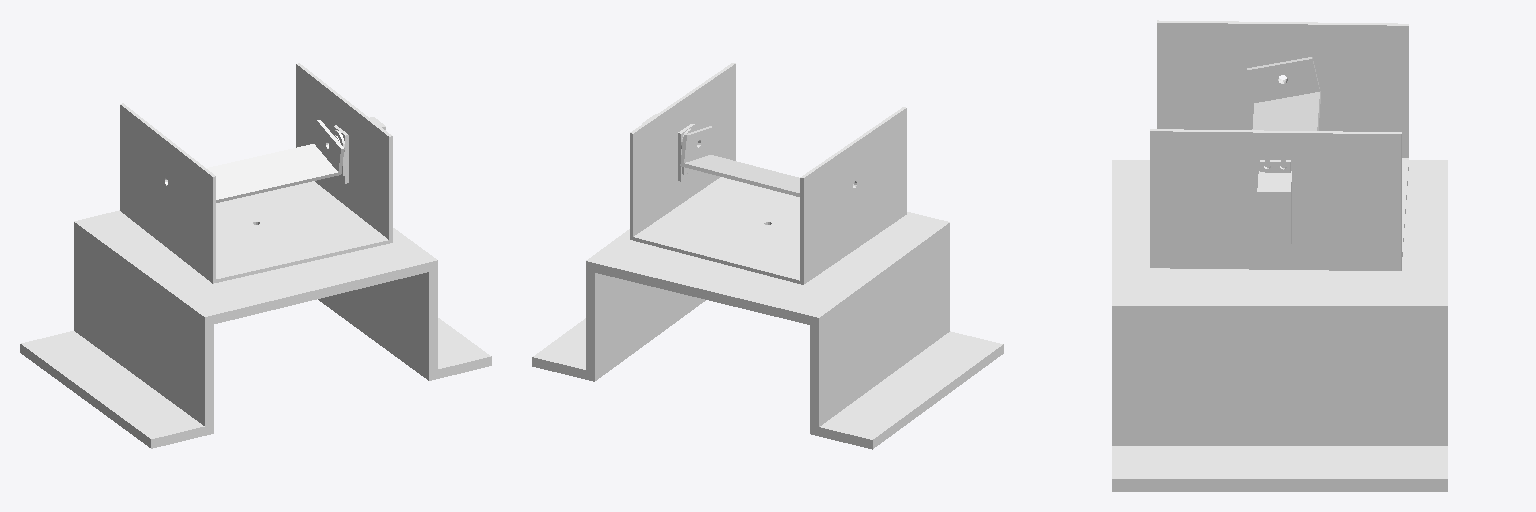
robot.urdf — pan_tilt_mech:
<?xml version="1.0" encoding="utf-8"?>
<!-- This URDF was automatically created by SolidWorks to URDF Exporter! Originally created by [author] ([email redacted]) 
     Commit Version: 1.6.0-1-g15f4949  Build Version: 1.6.7594.29634
     For more information, please see http://wiki.ros.org/sw_urdf_exporter -->
<robot
  name="pan_tilt_mech">
  <link
    name="base_link">
    <inertial>
      <origin
        xyz="0 0 0"
        rpy="0 0 0" />
      <mass
        value="0.2918" />
      <inertia
        ixx="0.0012785"
        ixy="7.8447E-20"
        ixz="-6.4806E-19"
        iyy="0.003088"
        iyz="-8.7448E-07"
        izz="0.0026035" />
    </inertial>
    <visual>
      <origin
        xyz="0 0 0"
        rpy="0 0 0" />
      <geometry>
        <mesh
          filename="package://pan_tilt_mech/meshes/base_link.STL" />
      </geometry>
      <material
        name="">
        <color
          rgba="1 1 1 1" />
      </material>
    </visual>
    <collision>
      <origin
        xyz="0 0 0"
        rpy="0 0 0" />
      <geometry>
        <mesh
          filename="package://pan_tilt_mech/meshes/base_link.STL" />
      </geometry>
    </collision>
  </link>
  <link
    name="pan_link">
    <inertial>
      <origin
        xyz="1.249E-16 0.027895 -0.0078715"
        rpy="0 0 0" />
      <mass
        value="0.3185" />
      <inertia
        ixx="0.00099595"
        ixy="-9.0846E-19"
        ixz="1.8127E-18"
        iyy="0.0011829"
        iyz="-6.8855E-06"
        izz="0.00062446" />
    </inertial>
    <visual>
      <origin
        xyz="0 0 0"
        rpy="0 0 0" />
      <geometry>
        <mesh
          filename="package://pan_tilt_mech/meshes/pan_link.STL" />
      </geometry>
      <material
        name="">
        <color
          rgba="1 1 1 0.3" />
      </material>
    </visual>
    <collision>
      <origin
        xyz="0 0 0"
        rpy="0 0 0" />
      <geometry>
        <mesh
          filename="package://pan_tilt_mech/meshes/pan_link.STL" />
      </geometry>
    </collision>
  </link>
  <joint
    name="pan_joint"
    type="revolute">
    <origin
      xyz="0.010936 -0.086324 0.12913"
      rpy="1.5708 0 -1.6005" />
    <parent
      link="base_link" />
    <child
      link="pan_link" />
    <axis
      xyz="0 1 0" />
    <limit
      lower="-3.14"
      upper="3.14"
      effort="10"
      velocity="10" />
  </joint>
  <link
    name="tilt_link">
    <inertial>
      <origin
        xyz="0.005 0.01059 -1.3878E-17"
        rpy="0 0 0" />
      <mass
        value="0.026299" />
      <inertia
        ixx="4.534E-06"
        ixy="1.1948E-20"
        ixz="-1.7033E-20"
        iyy="6.5271E-05"
        iyz="-8.4703E-22"
        izz="6.2741E-05" />
    </inertial>
    <visual>
      <origin
        xyz="0 0 0"
        rpy="0 0 0" />
      <geometry>
        <mesh
          filename="package://pan_tilt_mech/meshes/tilt_link.STL" />
      </geometry>
      <material
        name="">
        <color
          rgba="1 1 1 0.3" />
      </material>
    </visual>
    <collision>
      <origin
        xyz="0 0 0"
        rpy="0 0 0" />
      <geometry>
        <mesh
          filename="package://pan_tilt_mech/meshes/tilt_link.STL" />
      </geometry>
    </collision>
  </link>
  <joint
    name="tilt_joint"
    type="continuous">
    <origin
      xyz="0 0.067 0"
      rpy="2.9341 -1.5708 0" />
    <parent
      link="pan_link" />
    <child
      link="tilt_link" />
    <axis
      xyz="1 0 0" />
    <limit
      lower="-3.14"
      upper="3.14"
      effort="10"
      velocity="10" />
  </joint>
</robot>

--- What the picture shows (computed from the rendered views, not written in the file) ---
The picture shows the robot from 3 angles, left to right: view 1: azimuth 30°, elevation 25°; view 2: azimuth 150°, elevation 25°; view 3: azimuth 270°, elevation 25°; orthographic projection.
Model pan_tilt_mech with 3 links and 2 joints (1 revolute, 1 continuous), rooted at base_link, posed all joints at 0.
Links seen in each view (by area): view 1: base_link, pan_link, tilt_link; view 2: base_link, pan_link, tilt_link; view 3: base_link, pan_link, tilt_link.
Link boxes in pixels (x1,y1,x2,y2): base_link: (20,210,491,448); pan_link: (120,63,392,283); tilt_link: (206,120,344,202); base_link: (532,212,1003,449); pan_link: (630,63,906,284); tilt_link: (680,126,799,196); base_link: (1112,160,1447,491); pan_link: (1150,20,1408,270); tilt_link: (1247,57,1320,130).
Size in the robot's own frame: 0.3 by 0.2 by 0.202 metres.
3 mesh visuals loaded from 3 distinct referenced files (3 binary STL).